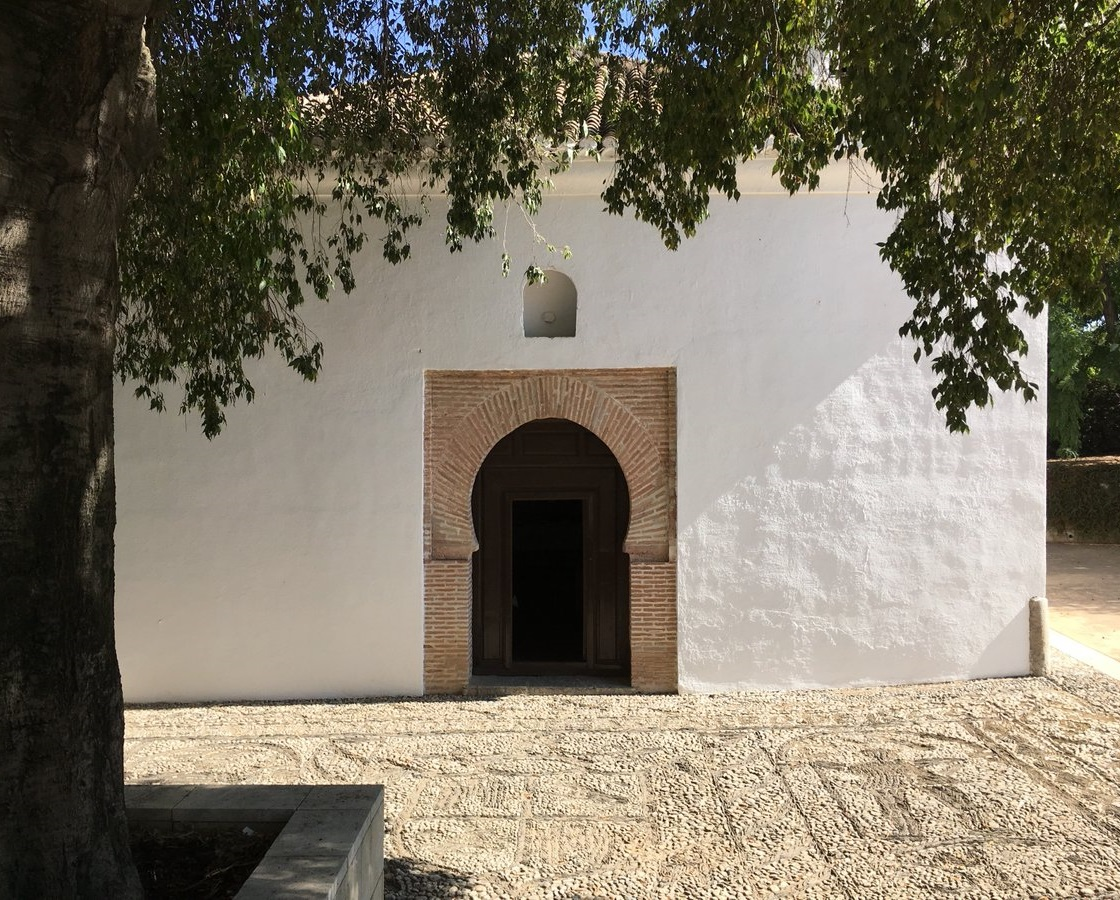arco-herradura: (459, 408, 648, 580)
